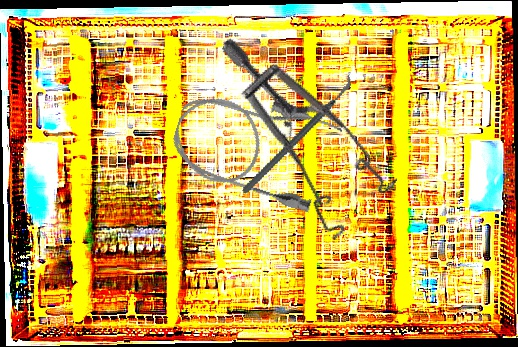Cannula: (164, 74, 345, 216)
Chopper: (216, 71, 379, 196)
Speculum: (170, 36, 423, 254)
